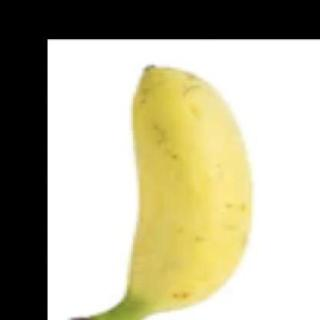banana: (125, 60, 255, 319)
